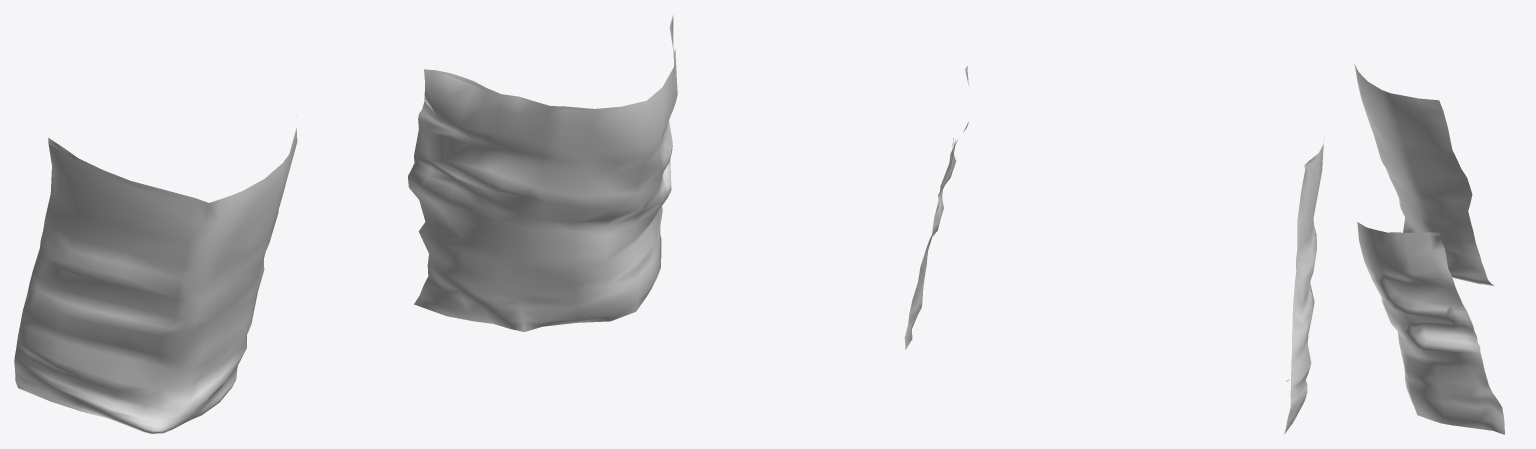
File: Pants_Knee.glb
3 renders of one model, left to right at view 1: azimuth 30°, elevation 25°; view 2: azimuth 150°, elevation 25°; view 3: azimuth 270°, elevation 25°, orthographic. The views are drawn at different scales.
Visible parts, largest first — view 1: Pants_Knee.001, Pants_Main12_01.001; view 2: Pants_Knee.001; view 3: Pants_Knee.001, Pants_Main12_01.001.
Part boxes in pixels (x1,y1,x2,y2): Pants_Knee.001: (14, 15, 677, 434); Pants_Main12_01.001: (48, 16, 675, 207); Pants_Knee.001: (904, 66, 1323, 434); Pants_Knee.001: (1354, 63, 1504, 434); Pants_Main12_01.001: (1354, 64, 1439, 235).
Size of the model in its own units: 0.7587 by 0.3335 by 0.2386.
Materials: 2 (2 with a texture image).
